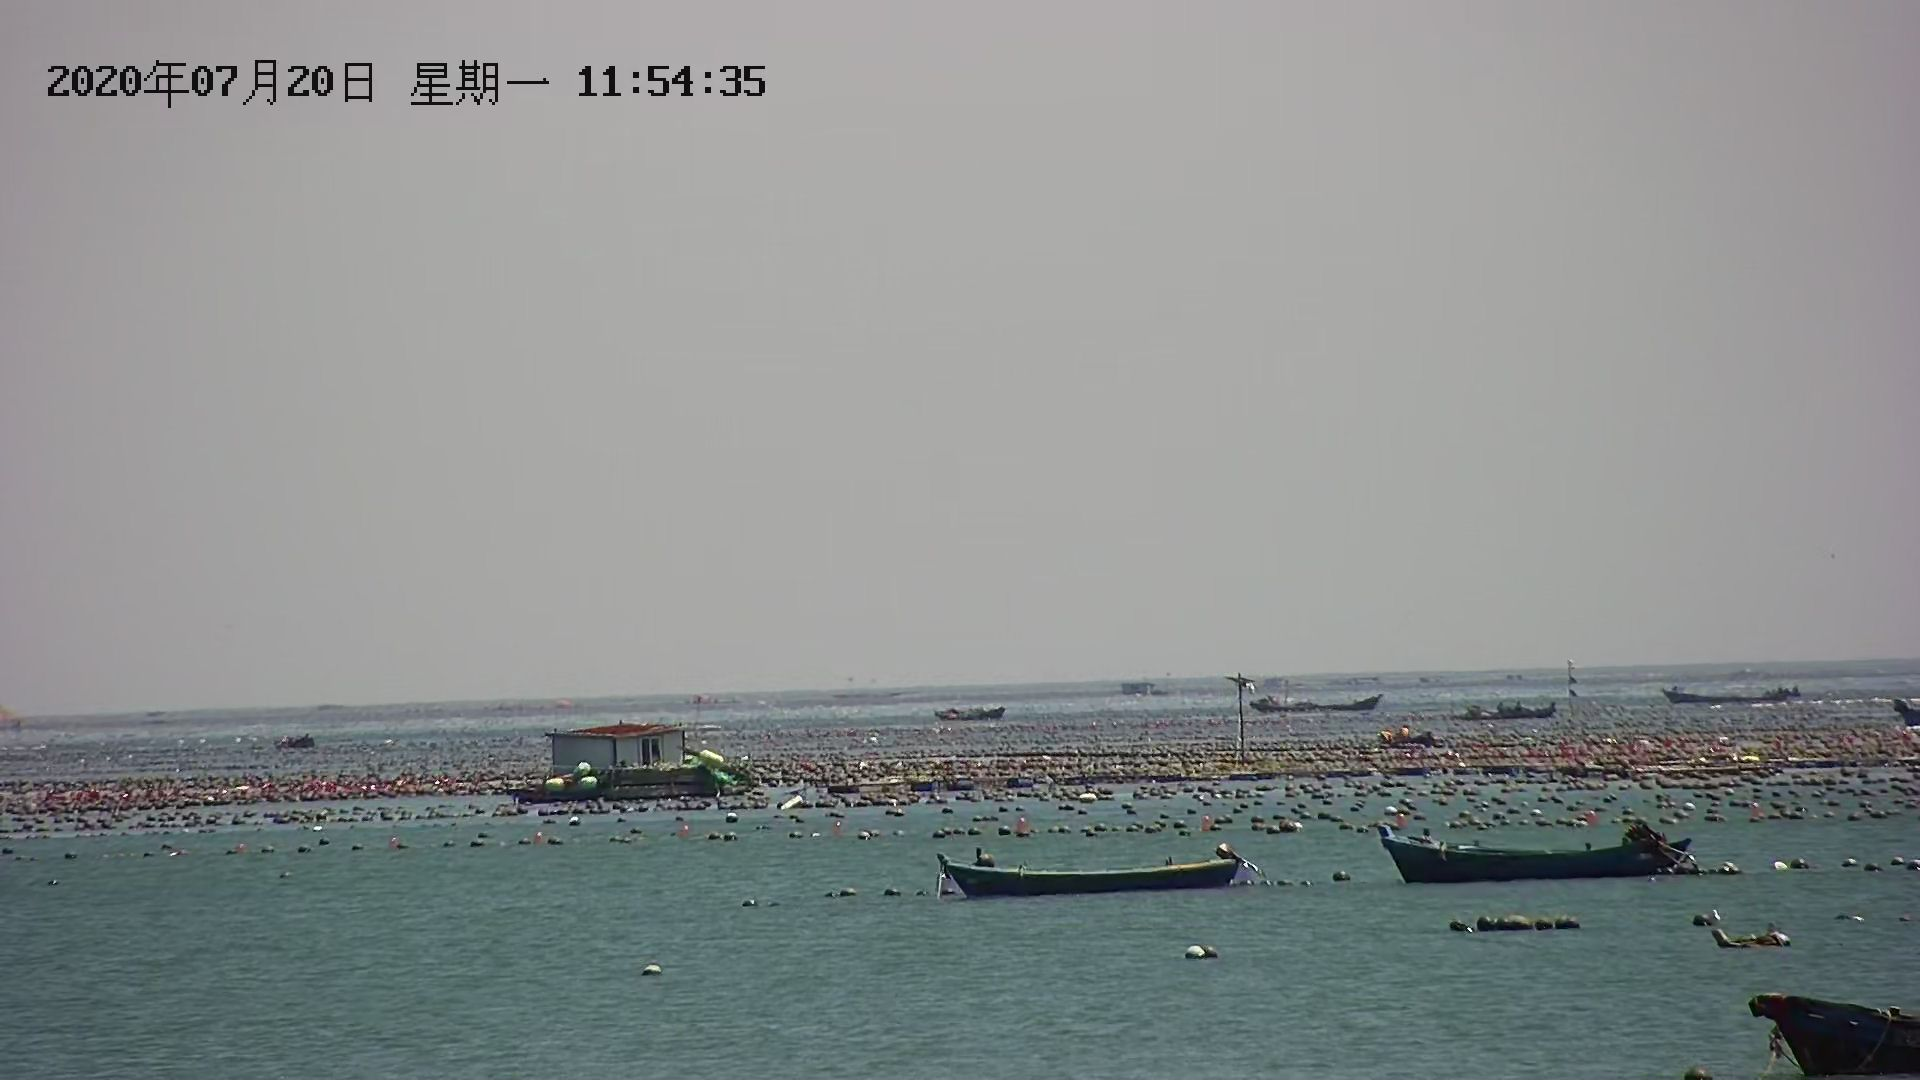ball: (1473, 902, 1528, 935), (1555, 899, 1586, 936), (1737, 924, 1780, 949), (1684, 911, 1721, 938), (1188, 939, 1221, 964), (1447, 916, 1478, 939), (641, 957, 665, 978)
boat: (1348, 818, 1692, 891), (1731, 980, 1920, 1079), (930, 847, 1251, 899), (1652, 675, 1801, 705), (1441, 694, 1563, 721), (1251, 694, 1385, 719), (928, 705, 1018, 719)
mast: (1217, 673, 1249, 765)
platform: (524, 723, 748, 803)
